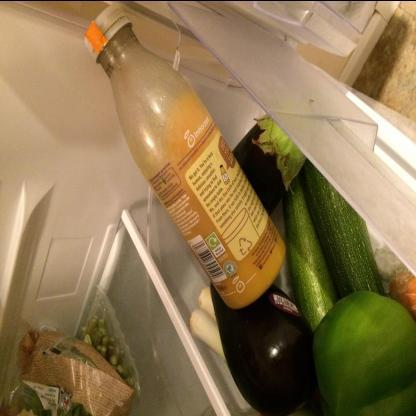plastik: (84, 2, 288, 306)
